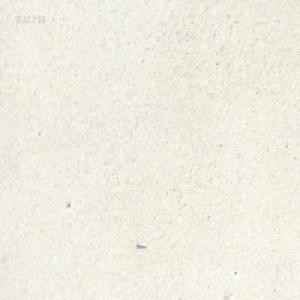Nail: (136, 242, 147, 250)
